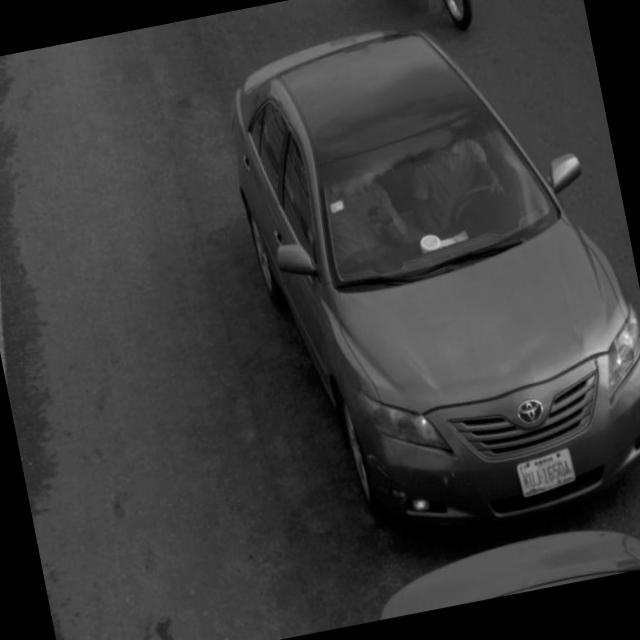person_with_seatbelt: (397, 108, 525, 258)
